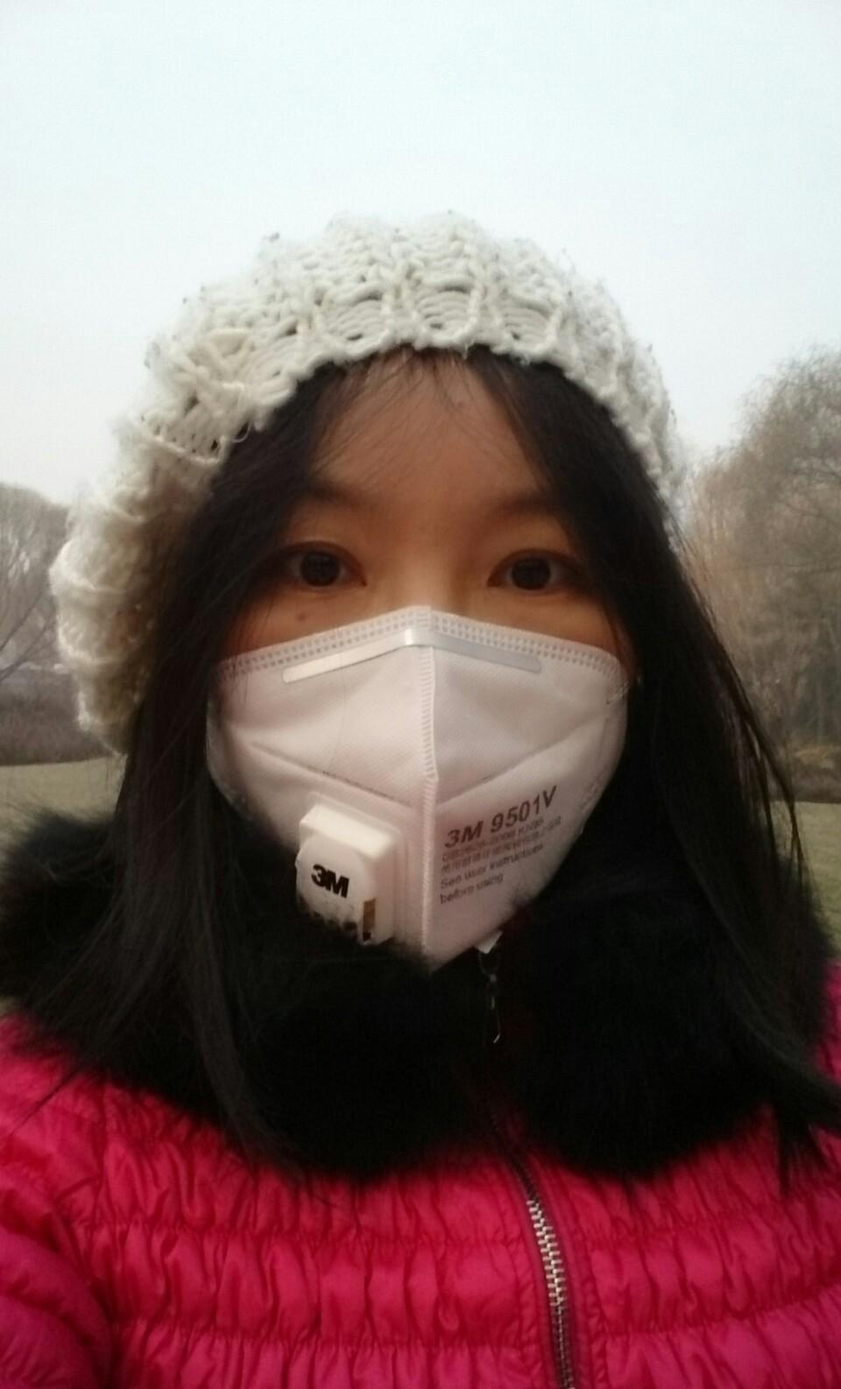OK: (180, 445, 627, 966)
